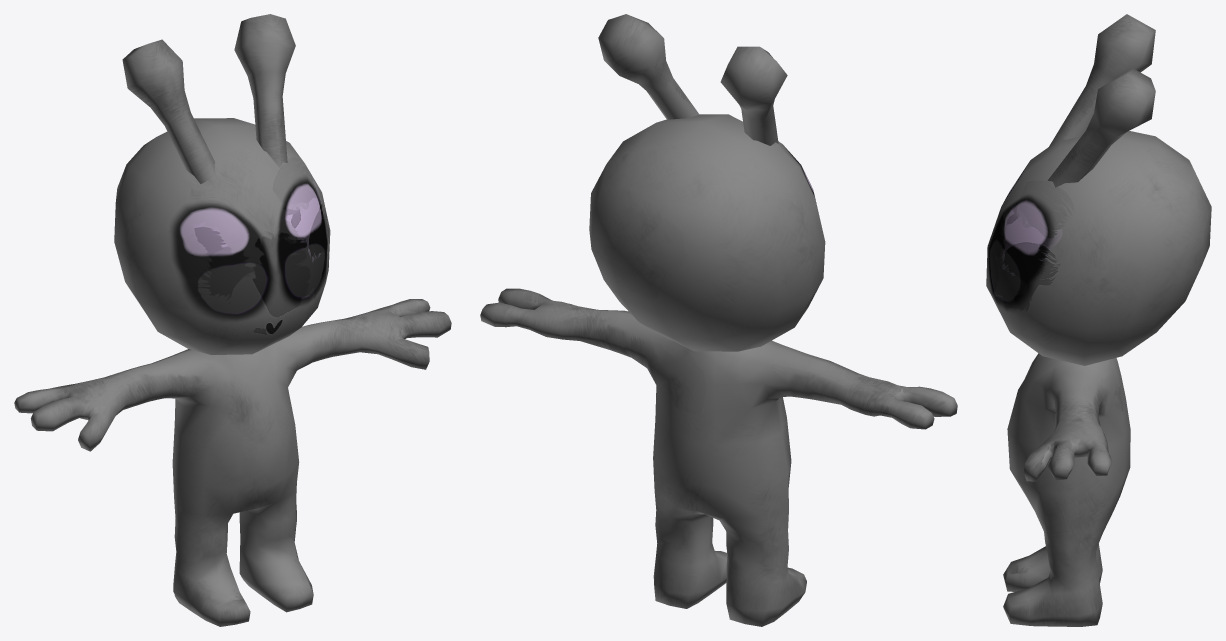
The model's file is Alien_Low_TPose.fbx.
3 renders of one model, left to right at view 1: azimuth 30°, elevation 25°; view 2: azimuth 150°, elevation 25°; view 3: azimuth 270°, elevation 25°, orthographic. The views are drawn at different scales.
Parts seen in each view (by area): view 1: Alien_Low_TPose; view 2: Alien_Low_TPose; view 3: Alien_Low_TPose.
Boxes of the visible parts, x1=… form: Alien_Low_TPose: x1=14, y1=14, x2=451, y2=626; Alien_Low_TPose: x1=480, y1=14, x2=957, y2=626; Alien_Low_TPose: x1=986, y1=14, x2=1211, y2=626.
Bounding box in the file's own units: 96.27 × 121 × 44.42.
